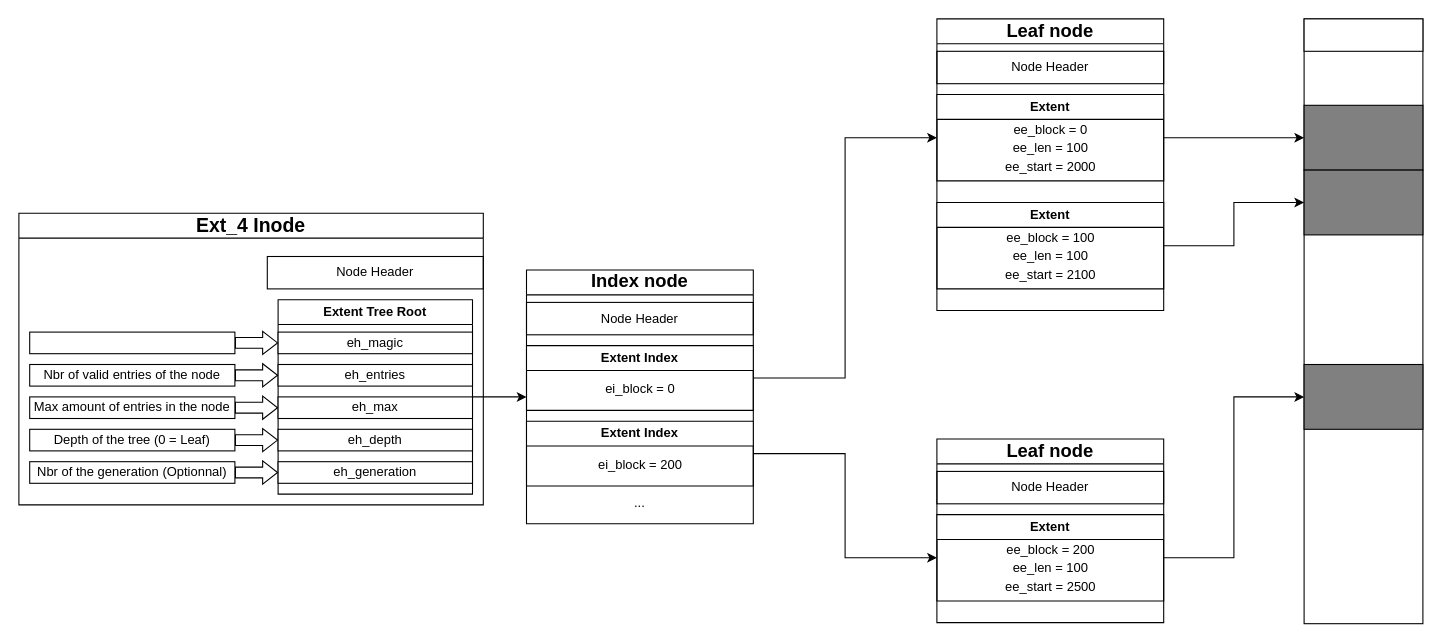
Some shapes in this 1442 by 643 pixel diagram are drawn without their labels. The centre of each missing label's shape, as x and y in pixels:
Disk Blocks: point (1363, 34)
Magic Number (0xF30A) = ID: point (132, 342)
